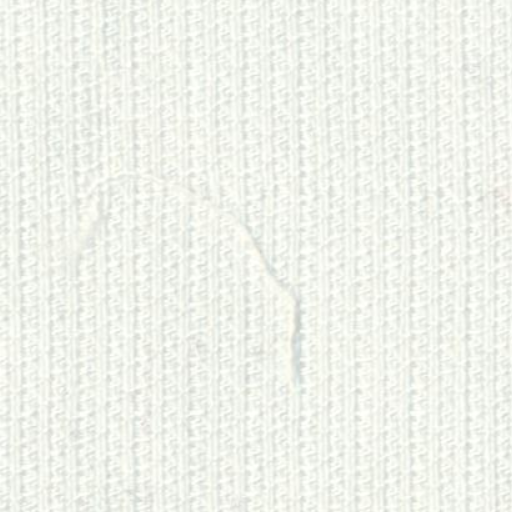DuanSha: (76, 158, 318, 394)
